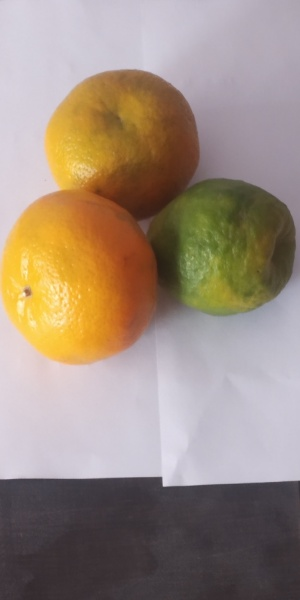BAD: (5, 191, 160, 364), (44, 67, 198, 214), (145, 180, 297, 315)
